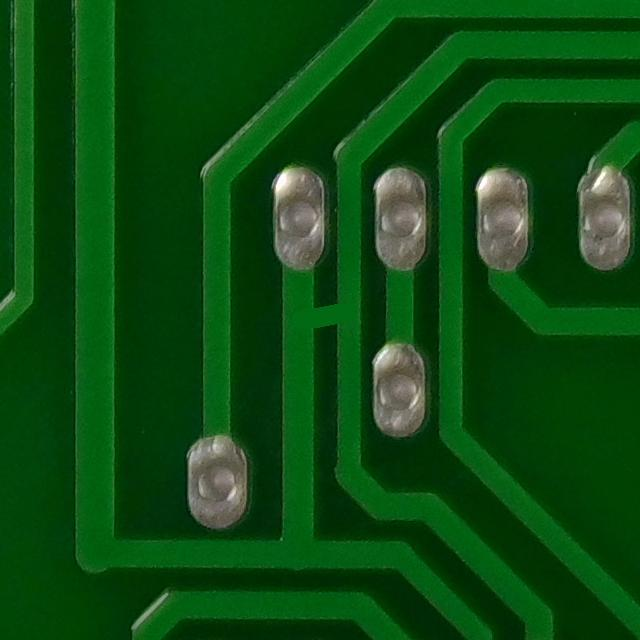short: (266, 286, 374, 355)
